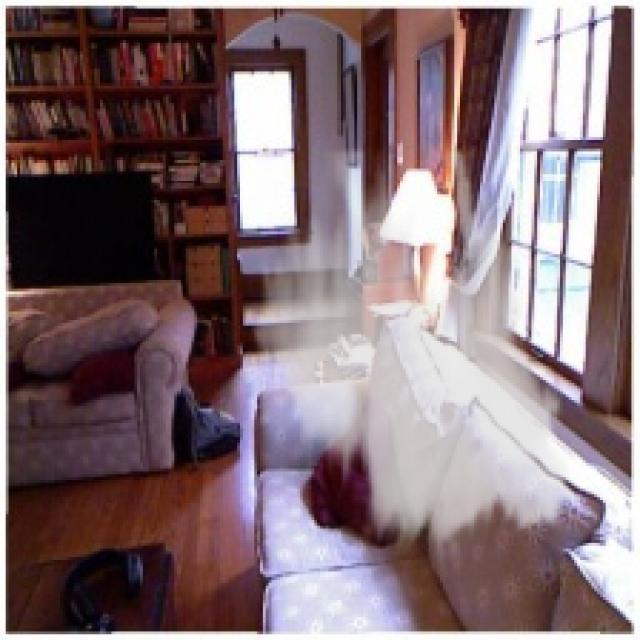Smoke: (243, 148, 586, 563)
